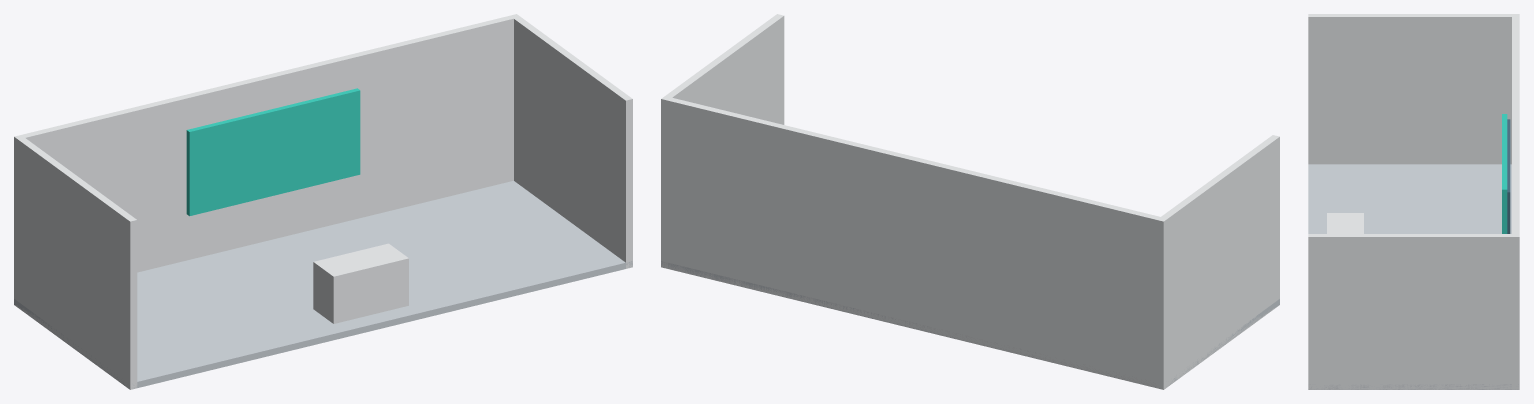
3 views of the same model, side by side, from view 1: azimuth 30°, elevation 25°; view 2: azimuth 150°, elevation 25°; view 3: azimuth 270°, elevation 25° (orthographic). The views are drawn at different scales.
Parts seen in each view (by area): view 1: Exhibition Booth Concept; view 2: Exhibition Booth Concept; view 3: Exhibition Booth Concept.
Boxes of the visible parts, x1=… form: Exhibition Booth Concept: x1=14, y1=14, x2=632, y2=389; Exhibition Booth Concept: x1=661, y1=14, x2=1279, y2=389; Exhibition Booth Concept: x1=1308, y1=14, x2=1519, y2=389.
Size of the model in its own units: 10 by 3.2 by 4.
